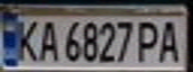2: (96, 18, 121, 64)
6: (60, 18, 84, 63)
7: (115, 17, 139, 64)
8: (78, 18, 100, 64)
A: (154, 17, 187, 64), (33, 18, 60, 63)
K: (12, 17, 42, 64)
P: (133, 18, 163, 64)
